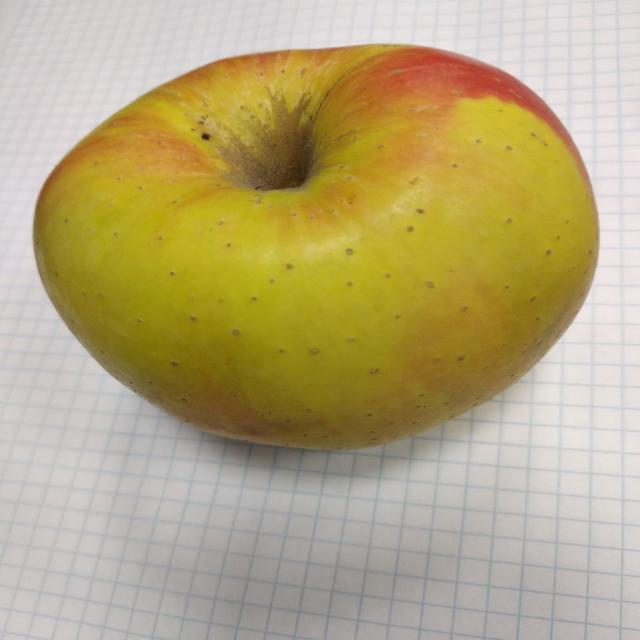Healty Apple: (35, 44, 600, 454)
